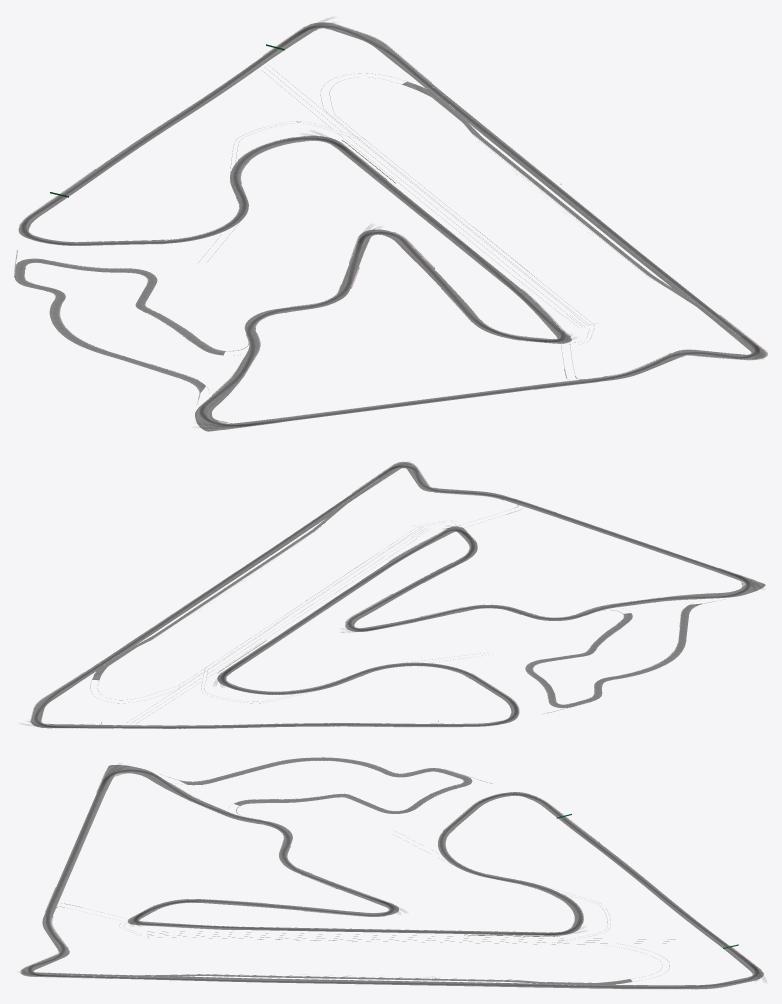
File: Bahrain.glb
3 renders of one model, top to bottom at view 1: azimuth 30°, elevation 25°; view 2: azimuth 150°, elevation 25°; view 3: azimuth 270°, elevation 25°, orthographic. The views are drawn at different scales.
Parts seen in each view (by area): view 1: bahrain_0, bahrain_v3.00122; view 2: bahrain_0, bahrain_v3.00122; view 3: bahrain_0, bahrain_v3.00122.
Part boxes in pixels (box(x1,y1,x2,y2)): bahrain_0: box(14, 18, 767, 431); bahrain_v3.00122: box(14, 22, 766, 431); bahrain_0: box(27, 461, 765, 728); bahrain_v3.00122: box(30, 462, 765, 728); bahrain_0: box(20, 757, 765, 989); bahrain_v3.00122: box(21, 757, 763, 989).
Bounding box in the file's own units: 858 × 22.73 × 1236.
16 materials, 16 textured.
